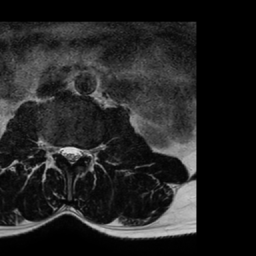CCS_normal: (67, 138, 75, 170)
LFS_normal: (83, 139, 90, 166)
LLS_normal: (75, 139, 83, 166)
RFS_normal: (52, 137, 59, 162)
RLS_normal: (59, 138, 67, 163)
